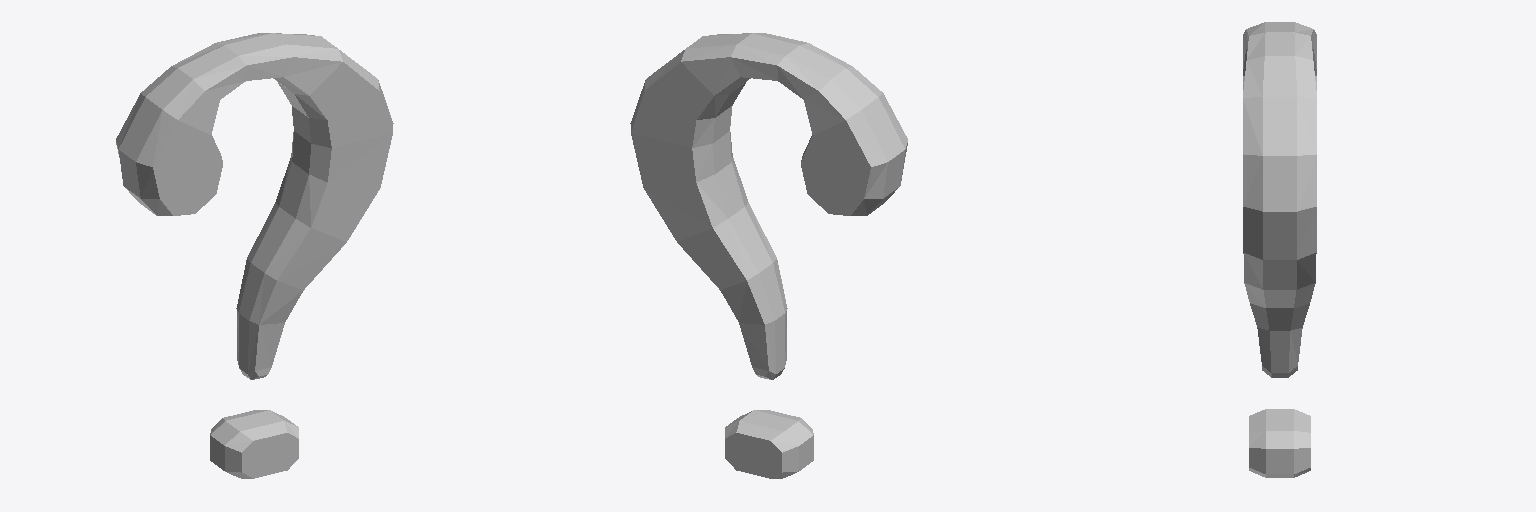
The model's file is Tricky Question Mark.obj.
3 views of the same model, side by side, from view 1: azimuth 30°, elevation 25°; view 2: azimuth 150°, elevation 25°; view 3: azimuth 270°, elevation 25° (orthographic).
Parts seen in each view (by area): view 1: MODELS_bin_005:poly000_Untitled; view 2: MODELS_bin_005:poly000_Untitled; view 3: MODELS_bin_005:poly000_Untitled.
Boxes of the visible parts, box(x1,y1,x2,y2) form: MODELS_bin_005:poly000_Untitled: box(116, 33, 393, 478); MODELS_bin_005:poly000_Untitled: box(630, 33, 907, 478); MODELS_bin_005:poly000_Untitled: box(1243, 22, 1316, 477).
Bounding box in the file's own units: 0.4422 × 0.6934 × 0.1109.